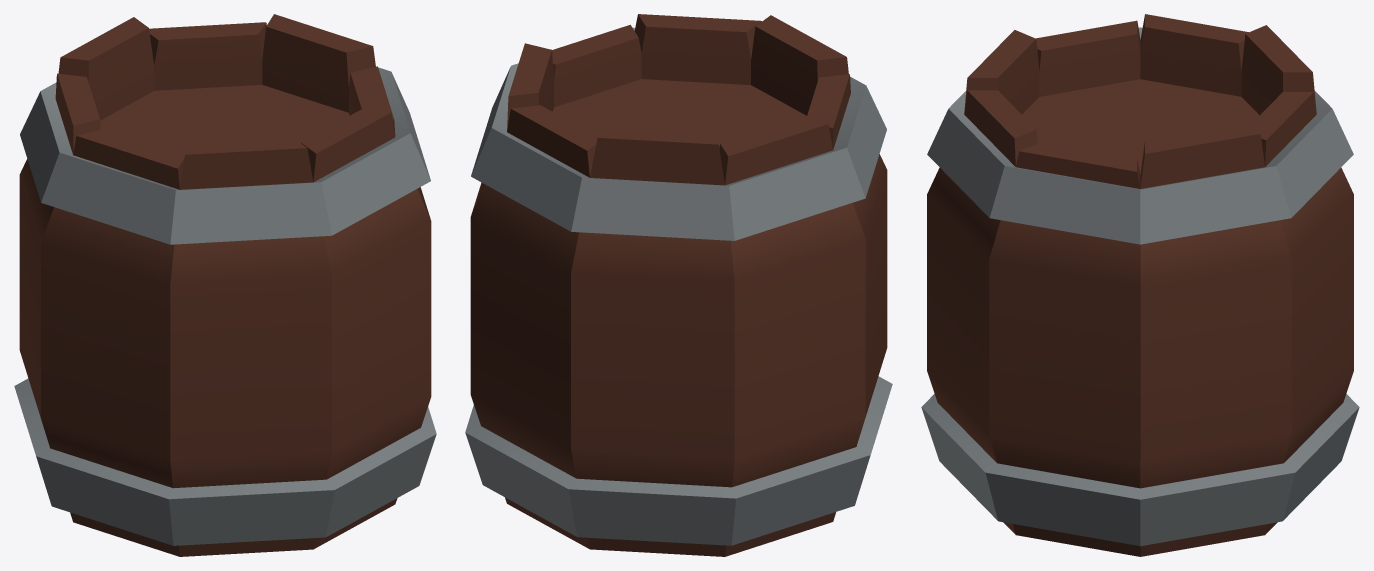
File: barrel.fbx
The picture shows the model from 3 angles, left to right: view 1: azimuth 30°, elevation 25°; view 2: azimuth 150°, elevation 25°; view 3: azimuth 270°, elevation 25°; orthographic projection.
Visible parts, largest first — view 1: barrel; view 2: barrel; view 3: barrel.
Part boxes in pixels (x1,y1,x2,y2): barrel: (14,14,436,556); barrel: (465,14,892,556); barrel: (921,14,1359,556).
Bounding box in the file's own units: 5.11 × 5.24 × 5.11.
